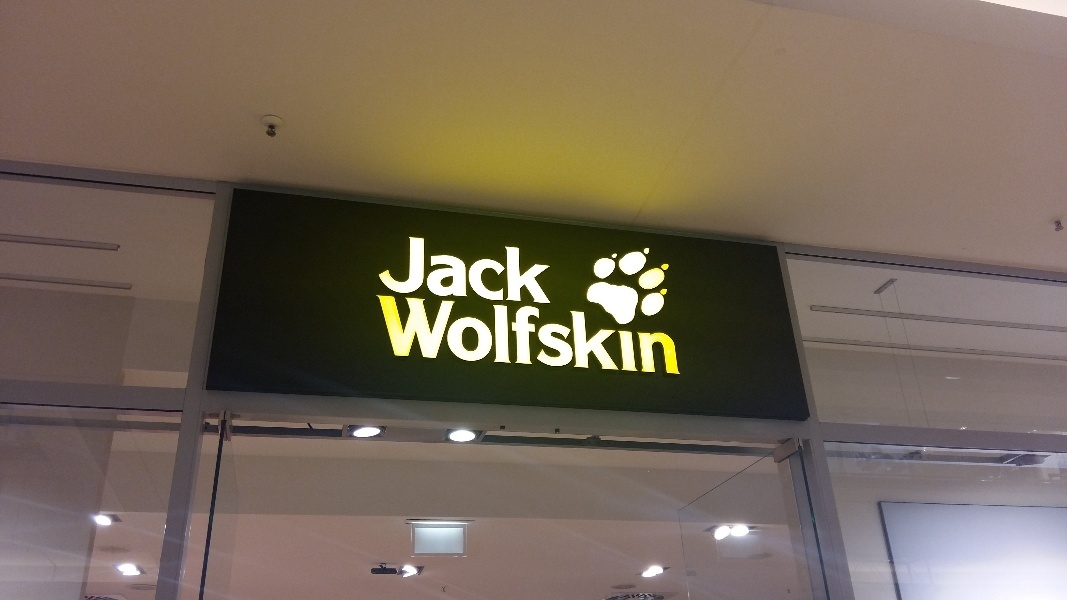text: (385, 297, 400, 377), (401, 297, 416, 377), (417, 297, 432, 377), (433, 297, 448, 377), (449, 297, 464, 377), (465, 297, 480, 377), (481, 297, 496, 377), (497, 297, 512, 377), (513, 297, 528, 377), (529, 297, 544, 377), (545, 297, 560, 377), (561, 297, 576, 377), (577, 297, 592, 377), (593, 297, 608, 377), (609, 297, 624, 377), (625, 297, 640, 377), (641, 297, 656, 377), (657, 297, 672, 377), (417, 236, 432, 306), (433, 236, 448, 306), (449, 236, 464, 306), (465, 236, 480, 306), (481, 236, 496, 306), (497, 236, 512, 306), (513, 236, 528, 306), (529, 236, 544, 306), (545, 236, 555, 306), (673, 297, 681, 377), (408, 236, 416, 306), (378, 297, 384, 377)
